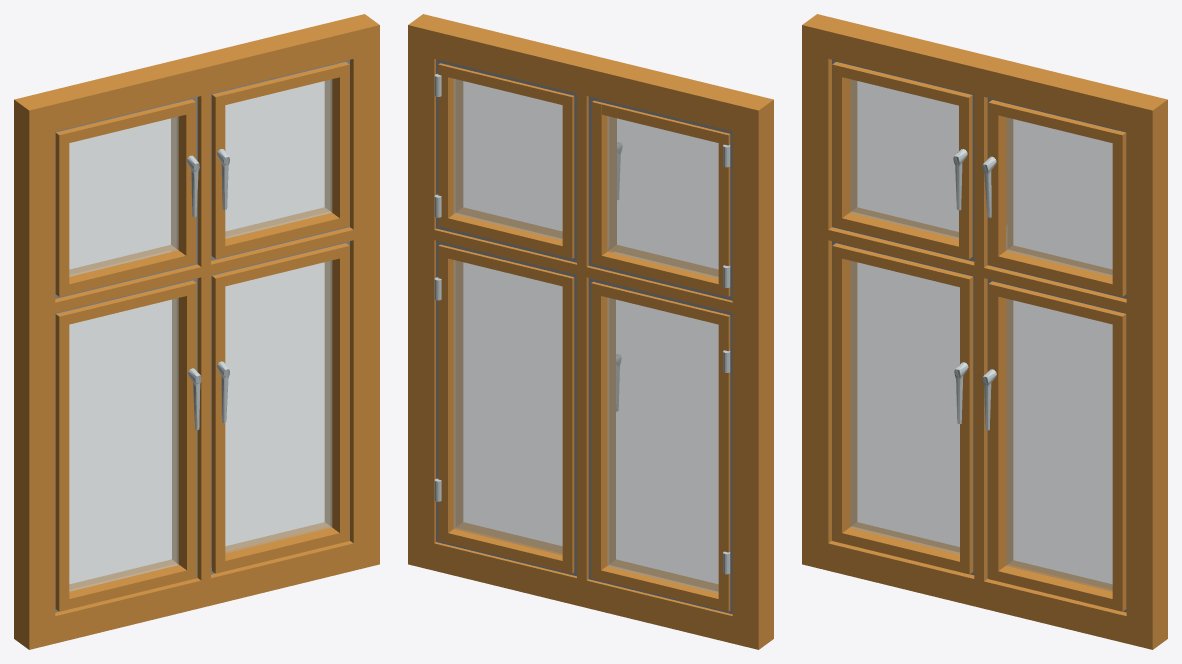
The model's file is Window2 orange 1731.glb.
3 renders of one model, left to right at view 1: azimuth 30°, elevation 25°; view 2: azimuth 150°, elevation 25°; view 3: azimuth 330°, elevation 25°, orthographic.
Visible parts, largest first — view 1: group593852955, group318304251, group2040139540, group279100259, group1567990600, group882742281, group1443614901, group1095300195, group1535698133, group89352579, group684877801, group564018101 (+12 smaller); view 2: group593852955, group318304251, group2040139540, group279100259, group1567990600, group1443614901, group882742281, group1095300195, group1535698133, group684877801, group89352579, group564018101 (+19 smaller); view 3: group593852955, group318304251, group882742281, group2040139540, group279100259, group1567990600, group1443614901, group1095300195, group1535698133, group1097680268, group116658328, group564018101 (+13 smaller).
Boxes of the visible parts, x1=… form: group593852955: x1=69, y1=298, x2=178, y2=591; group318304251: x1=225, y1=260, x2=332, y2=553; group2040139540: x1=14, y1=123, x2=55, y2=639; group279100259: x1=14, y1=14, x2=379, y2=137; group1567990600: x1=69, y1=117, x2=178, y2=276; group882742281: x1=350, y1=50, x2=379, y2=543; group1443614901: x1=225, y1=79, x2=332, y2=238; group1095300195: x1=14, y1=537, x2=379, y2=649; group1535698133: x1=211, y1=62, x2=349, y2=258; group89352579: x1=325, y1=243, x2=349, y2=543; group684877801: x1=172, y1=280, x2=196, y2=580; group564018101: x1=197, y1=88, x2=210, y2=587; group593852955: x1=607, y1=297, x2=718, y2=593; group318304251: x1=453, y1=260, x2=562, y2=554; group2040139540: x1=732, y1=127, x2=773, y2=639; group279100259: x1=408, y1=14, x2=773, y2=137; group1567990600: x1=607, y1=116, x2=718, y2=278; group1443614901: x1=453, y1=79, x2=562, y2=240; group882742281: x1=408, y1=52, x2=435, y2=546; group1095300195: x1=408, y1=540, x2=773, y2=649; group1535698133: x1=438, y1=63, x2=574, y2=258; group684877801: x1=591, y1=282, x2=615, y2=580; group89352579: x1=438, y1=244, x2=462, y2=542; group564018101: x1=577, y1=93, x2=588, y2=580; group593852955: x1=850, y1=261, x2=959, y2=554; group318304251: x1=1006, y1=299, x2=1112, y2=591; group882742281: x1=1126, y1=127, x2=1167, y2=622; group2040139540: x1=802, y1=43, x2=831, y2=560; group279100259: x1=802, y1=14, x2=1167, y2=137; group1567990600: x1=850, y1=79, x2=958, y2=239; group1443614901: x1=1006, y1=117, x2=1112, y2=276; group1095300195: x1=802, y1=541, x2=1167, y2=649; group1535698133: x1=988, y1=100, x2=1126, y2=296; group1097680268: x1=832, y1=243, x2=856, y2=543; group116658328: x1=988, y1=281, x2=1012, y2=581; group564018101: x1=974, y1=89, x2=987, y2=587.
Bounding box in the file's own units: 1.64 × 2.41 × 0.2048.
